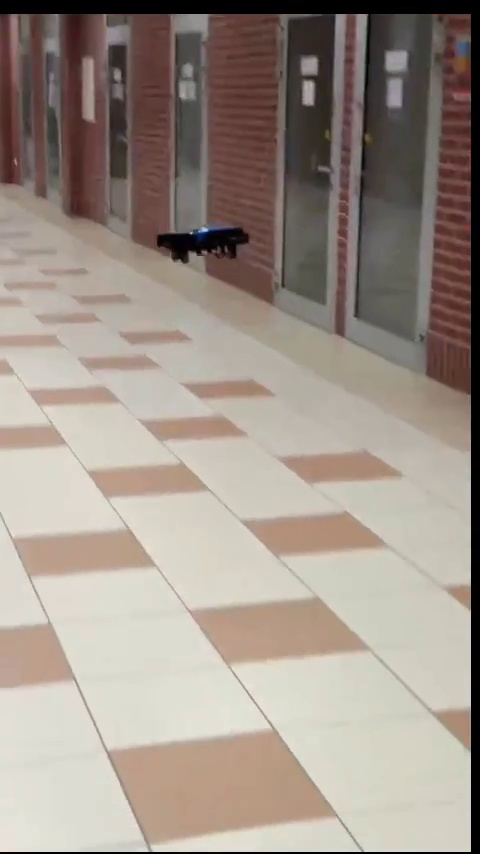drone: (158, 223, 248, 255)
